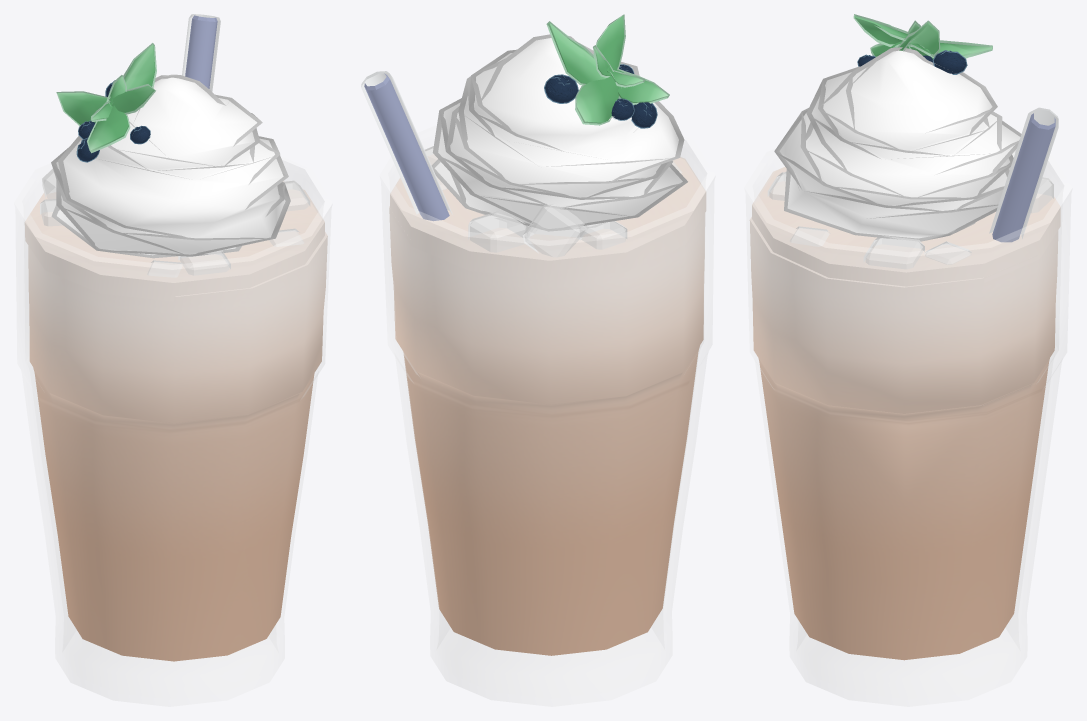
3 views of the same model, side by side, from view 1: azimuth 30°, elevation 25°; view 2: azimuth 150°, elevation 25°; view 3: azimuth 270°, elevation 25° (orthographic). The views are drawn at different scales.
Parts seen in each view (by area): view 1: Glas_Inside, Glas_Inside_Liquid_Coffee_0, WhippedCream, Glas_Inside_LiquidTop_Coffee_0, WhippedCream_Outline, Leaf, Straw_Straw_0, Leaf_Outline, Ice_Cube003, Straw_Outline_Straw_Outline_0; view 2: Glas_Inside, Glas_Inside_Liquid_Coffee_0, WhippedCream, Glas_Inside_LiquidTop_Coffee_0, WhippedCream_Outline, Leaf, Straw_Straw_0, Ice_Cube008, Ice_Cube, Straw_Outline_Straw_Outline_0, Leaf_Outline, Ice_Cube002 (+3 smaller); view 3: Glas_Inside, Glas_Inside_Liquid_Coffee_0, WhippedCream, Glas_Inside_LiquidTop_Coffee_0, WhippedCream_Outline, Straw_Straw_0, Leaf, Ice_Cube004, Straw_Outline_Straw_Outline_0, Leaf_Outline, Ice_Cube006, Blueberry001 (+1 smaller).
Part boxes in pixels (x1,y1,x2,y2): Glas_Inside: [14, 156, 332, 706]; Glas_Inside_Liquid_Coffee_0: [28, 232, 327, 661]; WhippedCream: [56, 77, 285, 255]; Glas_Inside_LiquidTop_Coffee_0: [24, 181, 324, 301]; WhippedCream_Outline: [51, 74, 290, 258]; Leaf: [57, 44, 155, 151]; Straw_Straw_0: [185, 15, 217, 88]; Leaf_Outline: [56, 43, 156, 153]; Ice_Cube003: [180, 250, 228, 275]; Straw_Outline_Straw_Outline_0: [182, 14, 220, 91]; Glas_Inside: [380, 125, 715, 706]; Glas_Inside_Liquid_Coffee_0: [389, 206, 705, 655]; WhippedCream: [434, 38, 682, 228]; Glas_Inside_LiquidTop_Coffee_0: [390, 154, 706, 280]; WhippedCream_Outline: [431, 34, 687, 231]; Leaf: [548, 16, 667, 123]; Straw_Straw_0: [364, 73, 449, 221]; Ice_Cube008: [524, 204, 585, 257]; Ice_Cube: [470, 213, 526, 252]; Straw_Outline_Straw_Outline_0: [361, 71, 452, 214]; Leaf_Outline: [546, 14, 669, 125]; Ice_Cube002: [580, 221, 625, 249]; Glas_Inside: [744, 148, 1072, 706]; Glas_Inside_Liquid_Coffee_0: [749, 217, 1058, 660]; WhippedCream: [779, 50, 1020, 238]; Glas_Inside_LiquidTop_Coffee_0: [752, 167, 1060, 286]; WhippedCream_Outline: [774, 47, 1021, 241]; Straw_Straw_0: [992, 113, 1055, 242]; Leaf: [854, 16, 991, 59]; Ice_Cube004: [866, 238, 922, 268]; Straw_Outline_Straw_Outline_0: [989, 107, 1058, 238]; Leaf_Outline: [853, 14, 992, 58]; Ice_Cube006: [925, 243, 970, 264]; Blueberry001: [933, 51, 966, 73].
Size of the model in its own units: 60.6 by 128 by 60.21.
11 materials, 2 textured.
